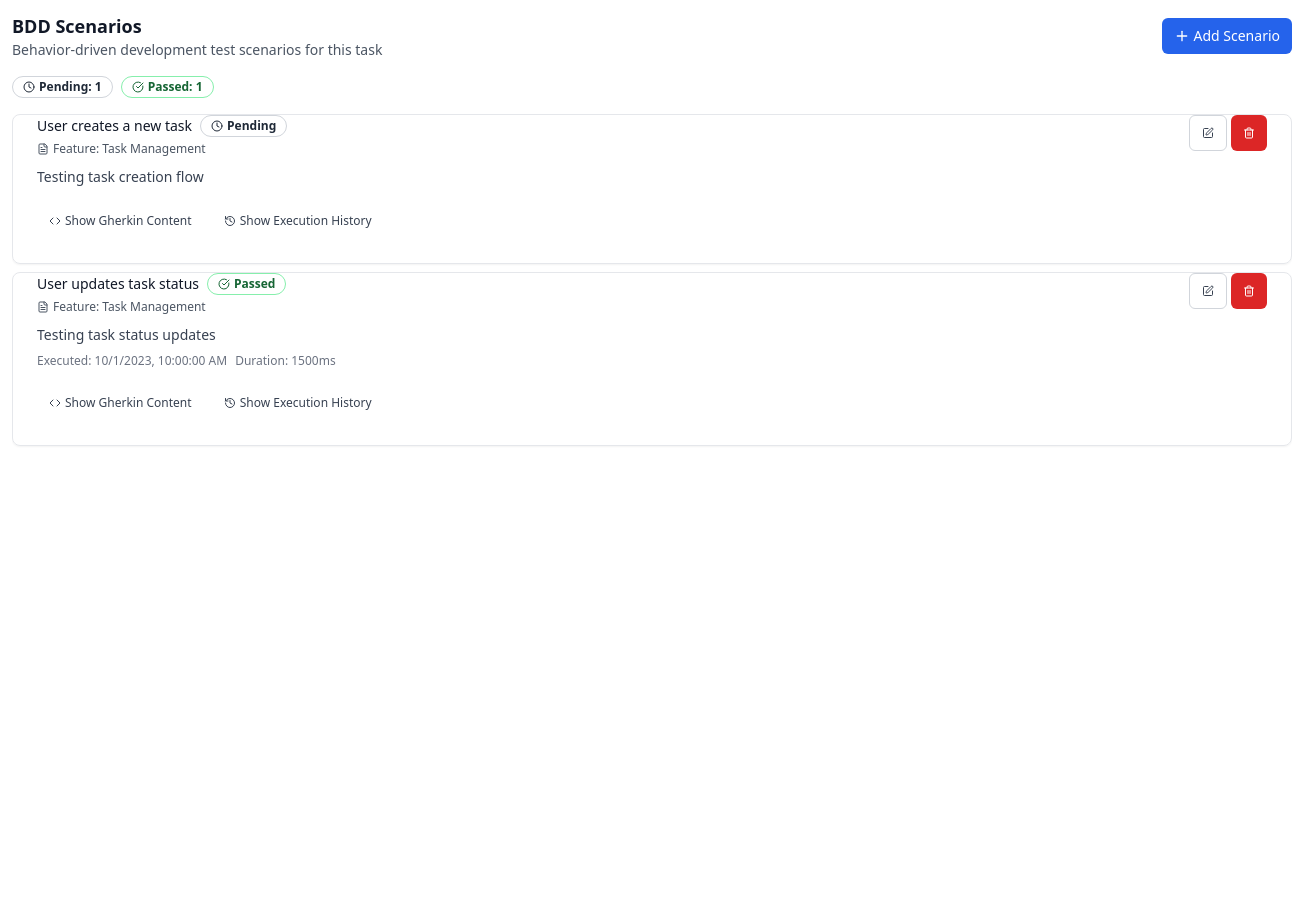
BDDScenarioManager › can expand and collapse gherkin content
The image size is (1304, 912).
Click the button "Show Gherkin Content" below "Testing task creation flow": {"x": 120, "y": 221} x1=37 y1=203 x2=204 y2=239
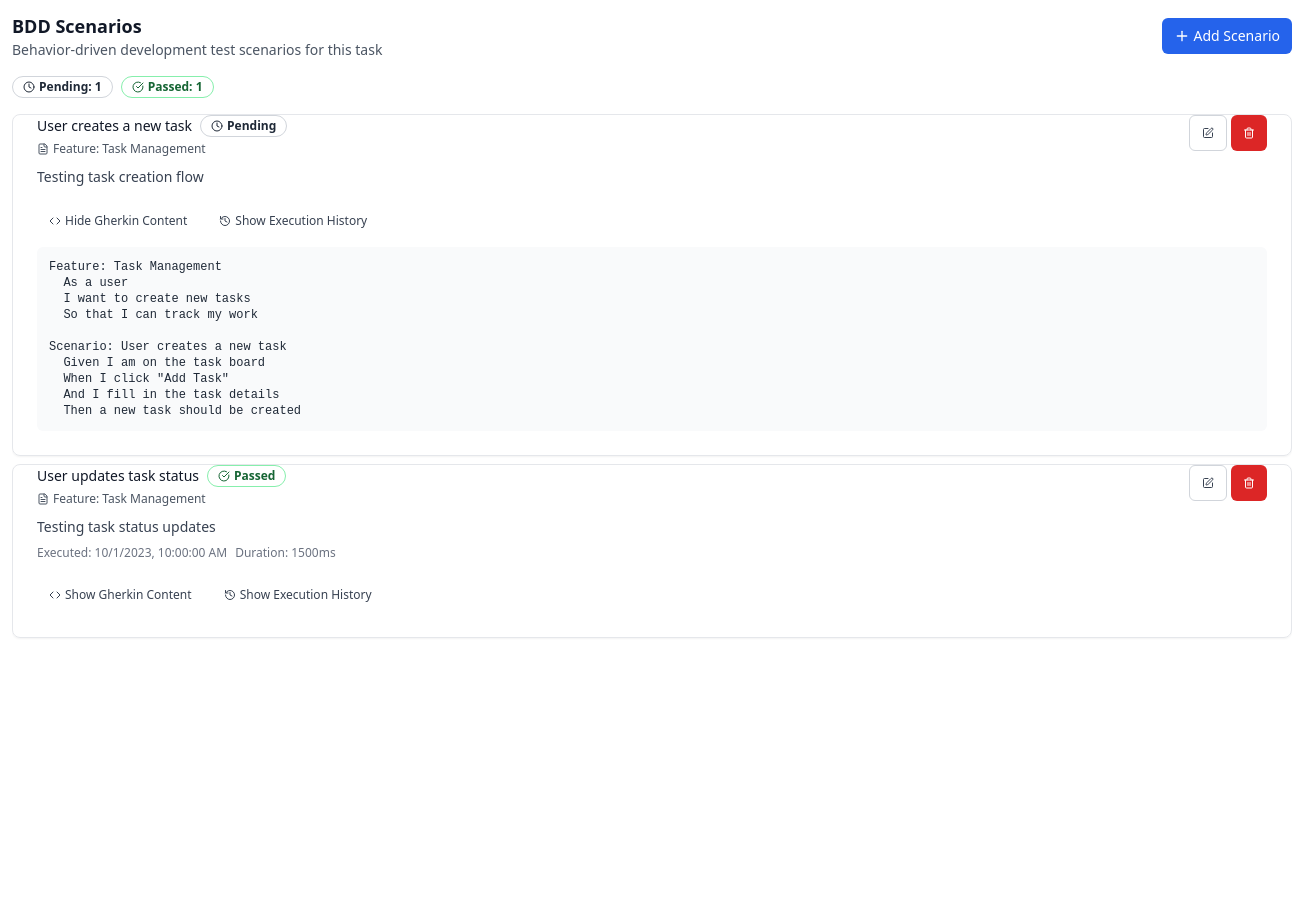
Check: the button "Hide Gherkin Content" is shown, box x1=37 y1=203 x2=199 y2=239
Check: the text "Given I am on the task board" is shown, box x1=49 y1=260 x2=301 y2=418
